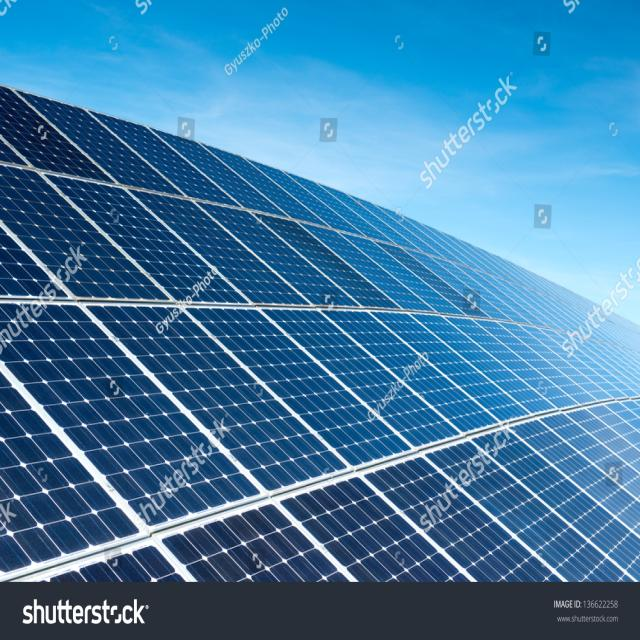clean-solar-panel: (1, 87, 640, 582)
